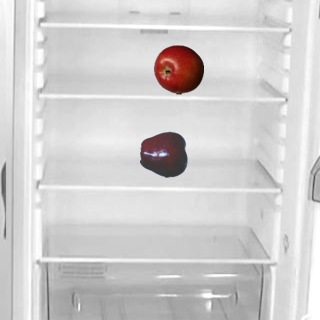Apple Braeburn: (153, 44, 203, 94)
Apple Red Delicious: (139, 129, 189, 179)
